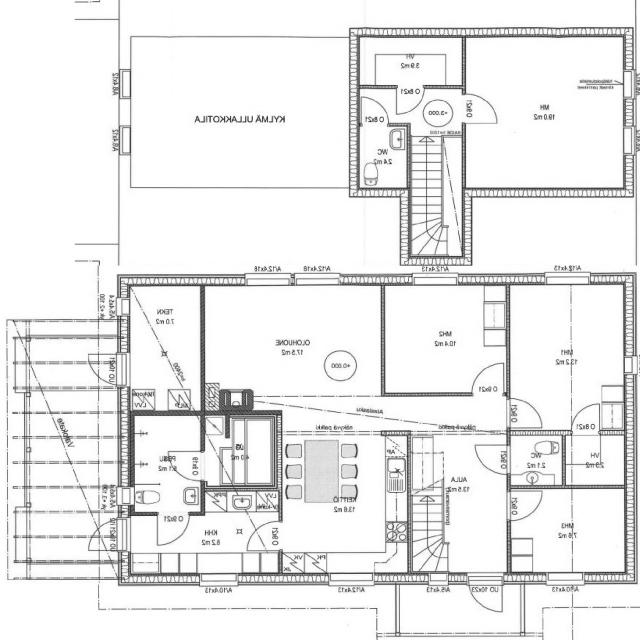door: (84, 518, 131, 551), (84, 354, 130, 386), (468, 572, 502, 615), (170, 451, 206, 481), (507, 491, 542, 521), (248, 521, 283, 550), (507, 398, 542, 427), (463, 94, 498, 123), (158, 512, 189, 544), (472, 364, 503, 396), (476, 445, 511, 473), (572, 404, 600, 435), (397, 85, 424, 114), (362, 97, 388, 126)
